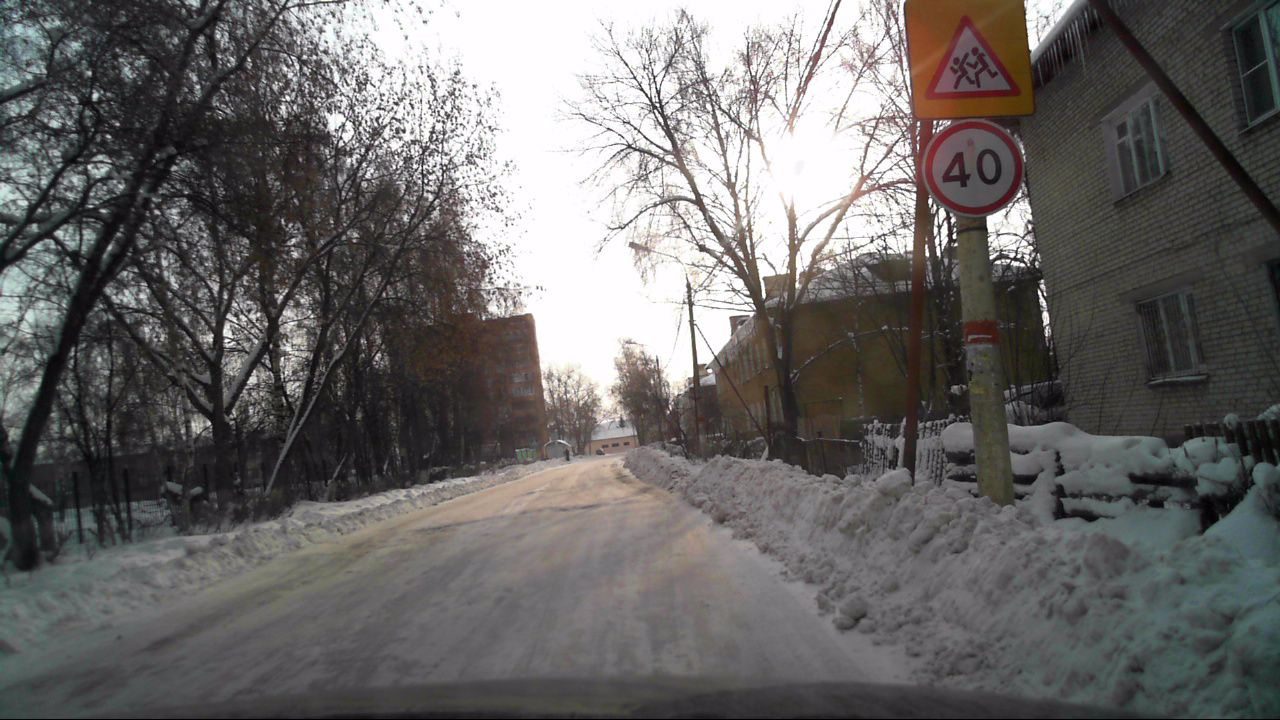speed_warning_40: (922, 121, 1020, 216)
